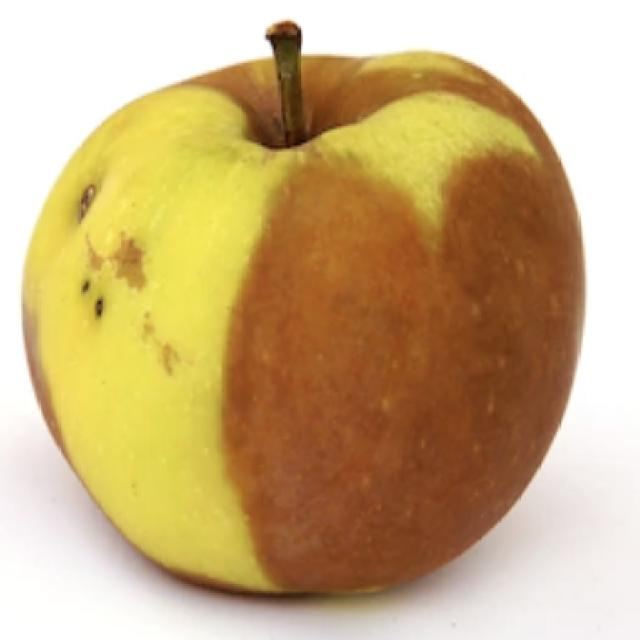rotten_apple: (21, 19, 586, 599)
